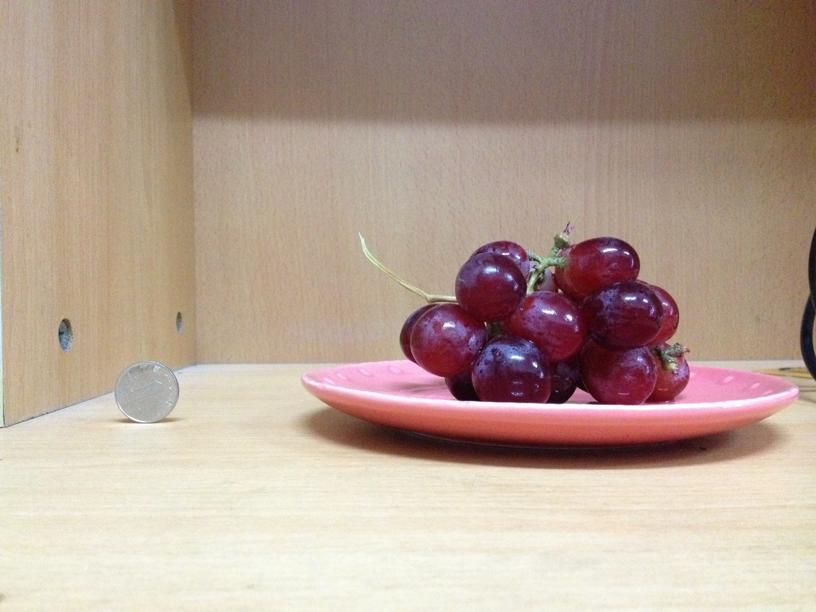coin: (116, 363, 179, 421)
grape: (398, 234, 687, 404)
